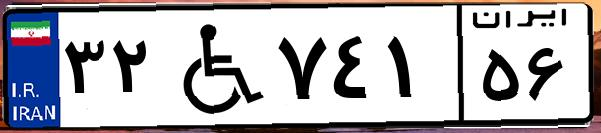1: (385, 28, 445, 110)
2: (110, 28, 158, 98)
3: (57, 26, 110, 100)
4: (330, 28, 385, 110)
5: (475, 38, 525, 113)
6: (525, 38, 570, 115)
7: (270, 28, 330, 110)
ژ (معلولین و جانبازان): (158, 12, 270, 120)
